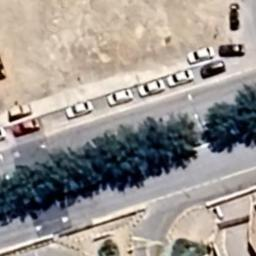SUV: (8, 102, 32, 120)
sedan: (137, 78, 167, 98), (166, 68, 195, 88), (64, 100, 94, 119), (13, 117, 41, 137), (186, 46, 216, 64), (106, 88, 134, 107), (218, 44, 246, 58)
van: (200, 61, 226, 79)
